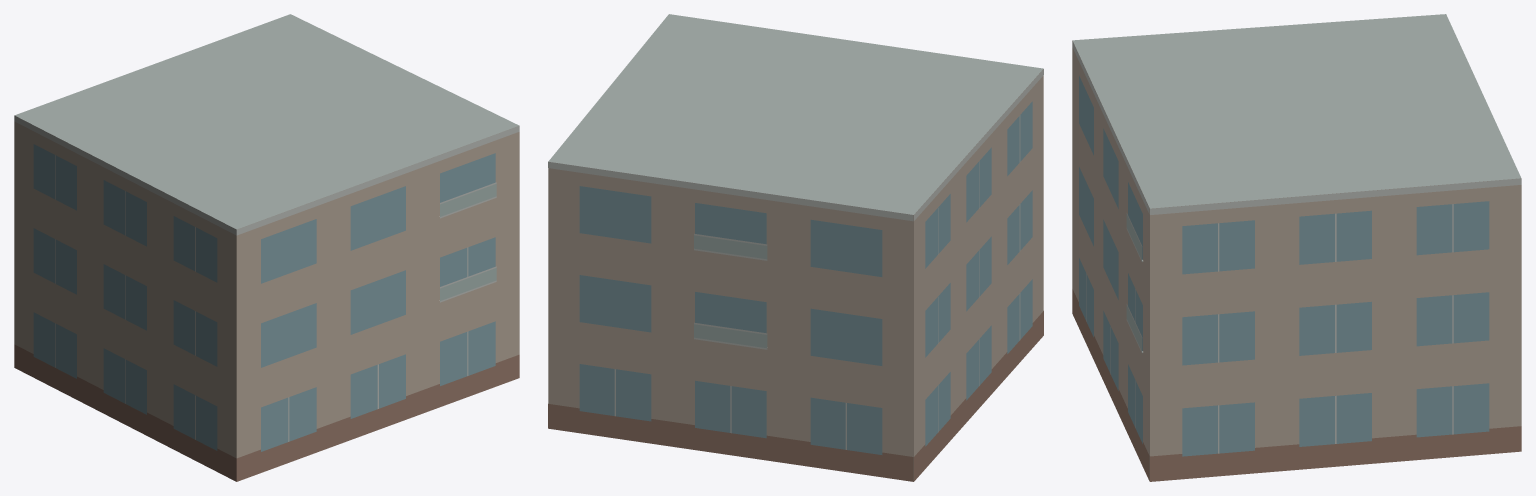
Rendered from survey-upis-32956767.glb.
The picture shows the model from 3 angles, left to right: view 1: azimuth 30°, elevation 25°; view 2: azimuth 150°, elevation 25°; view 3: azimuth 270°, elevation 25°; orthographic projection. The views are drawn at different scales.
Visible parts, largest first — view 1: survey-upis-32956767.tmp; view 2: survey-upis-32956767.tmp; view 3: survey-upis-32956767.tmp.
Boxes of the visible parts, bbox=[...] form: survey-upis-32956767.tmp: bbox=[14, 14, 519, 481]; survey-upis-32956767.tmp: bbox=[548, 14, 1043, 481]; survey-upis-32956767.tmp: bbox=[1072, 14, 1521, 481].
Bounding box in the file's own units: 15.59 × 10.2 × 15.21.
